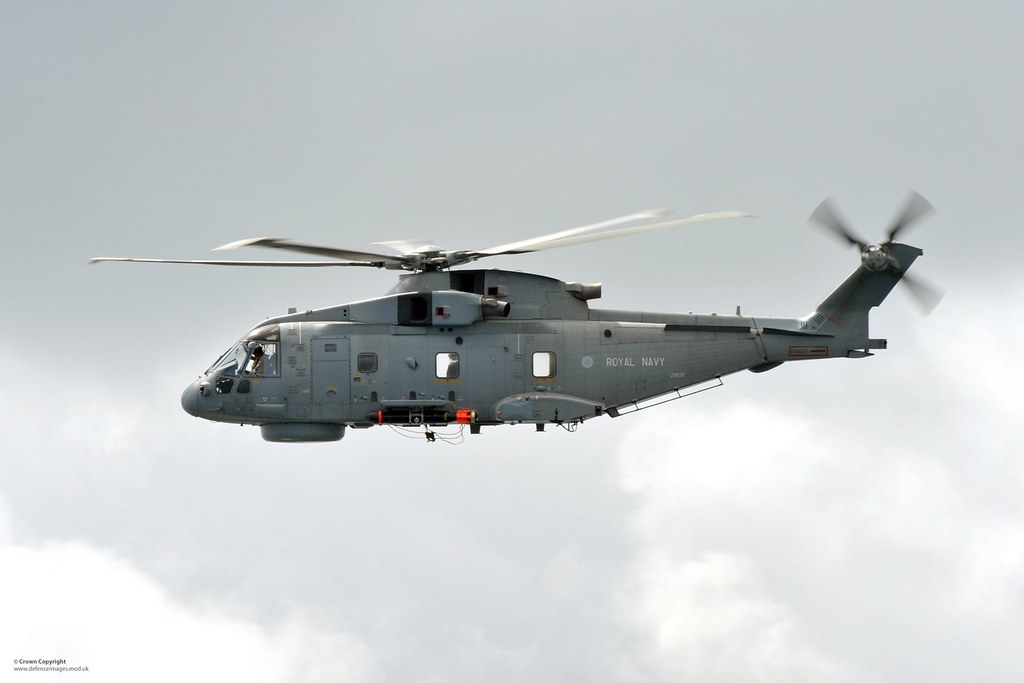Merlin: (81, 191, 964, 446)
